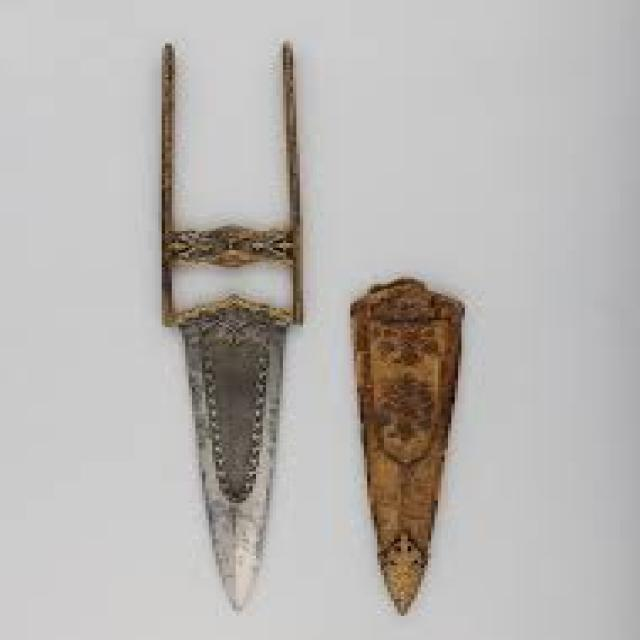Gun: (109, 44, 343, 613)
